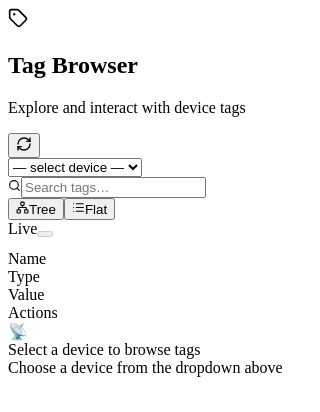
it: TagBrowserView › shows the empty state for a device with no tags
Step 1. Select "Packaging_PLC" in the dropdown named "Device" → (75, 167), box [8,158,142,177]
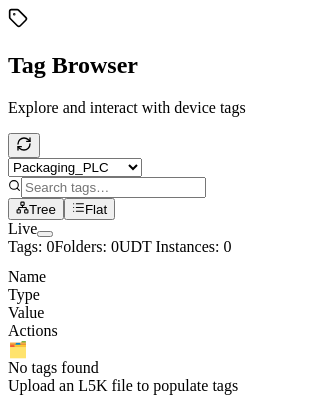
Now the text "Upload an L5K file to populate tags" is shown, box [8,377,238,394]
